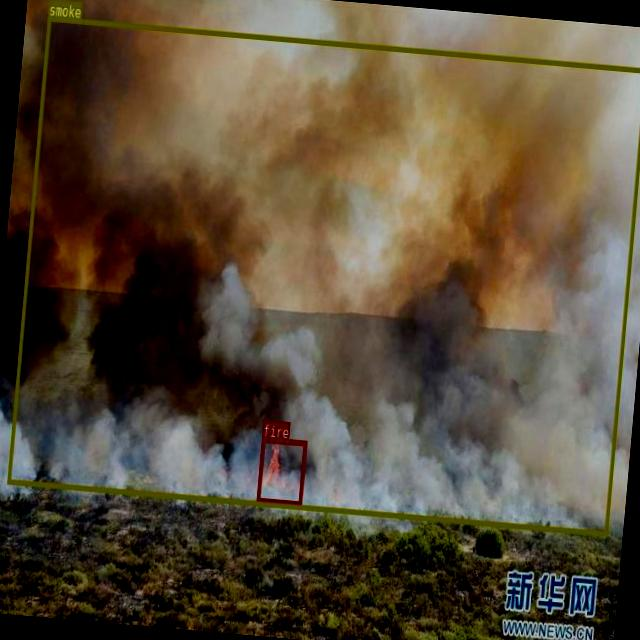fire: (256, 436, 306, 505)
smoke: (6, 14, 640, 535)
